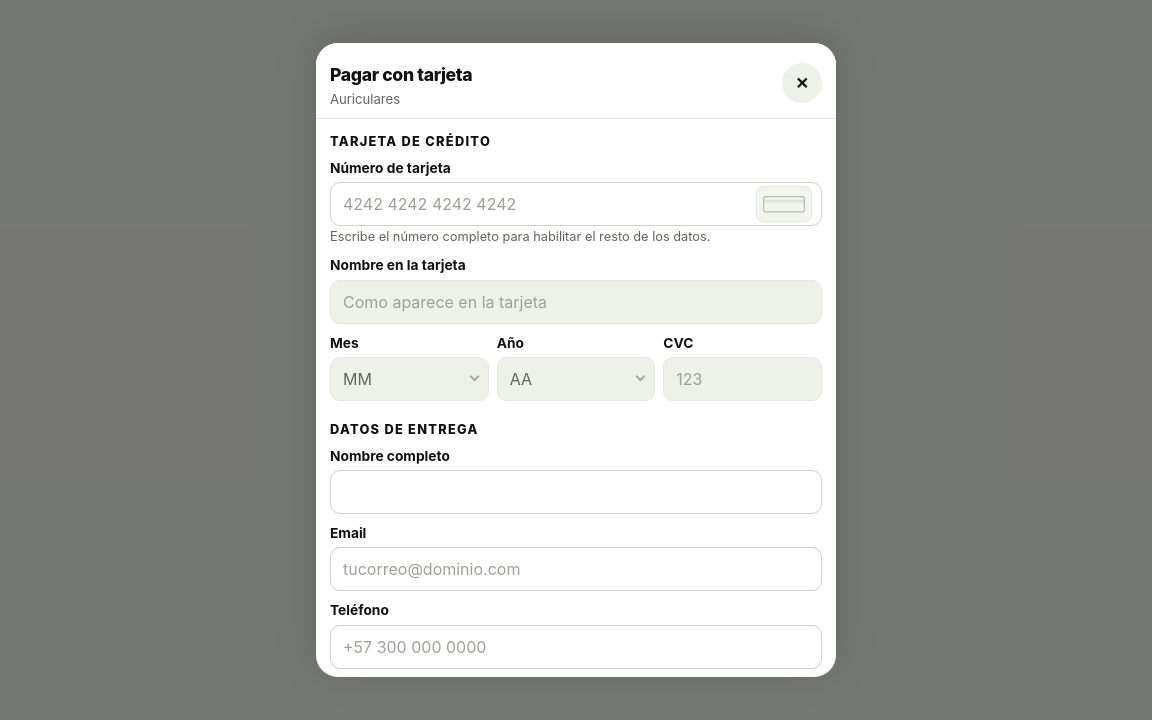
Test case: CheckoutModal › keeps the rest of the card locked until the number is complete
The width and height of the screenshot is (1152, 720).
Expected: the text "Escribe el número completo" is shown, x1=330 y1=229 x2=710 y2=244
In the field named "cardNumber": (576, 204) x1=330 y1=182 x2=822 y2=226, type "424242"
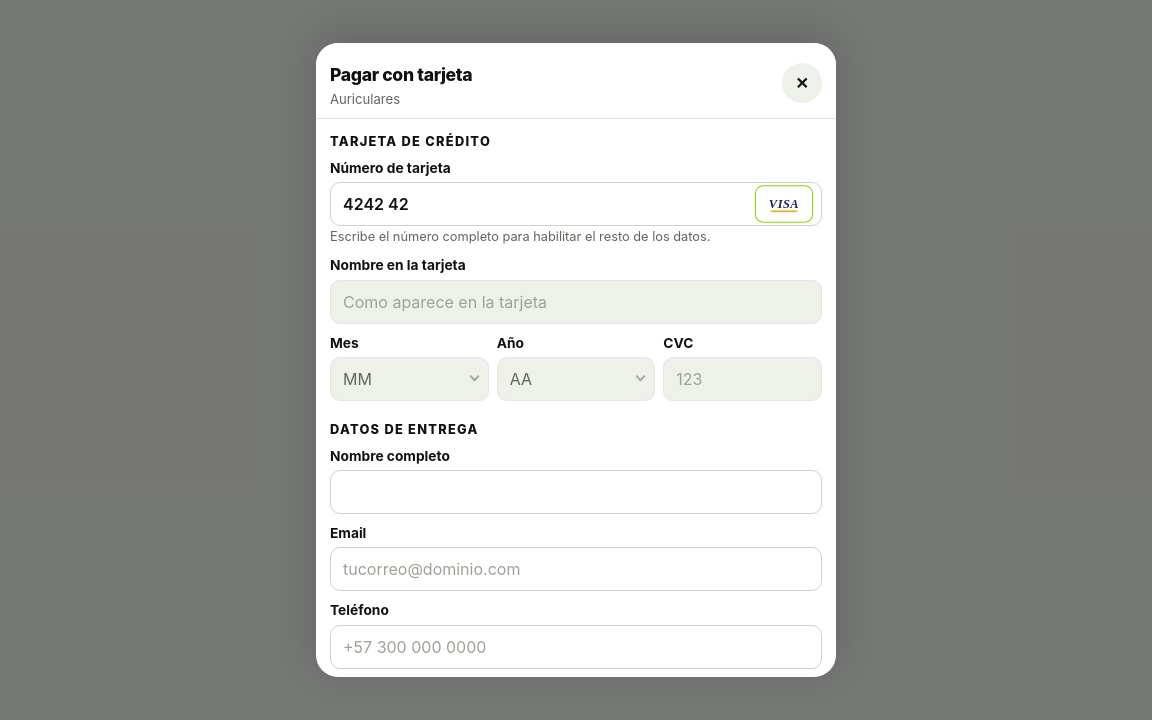
Replace the text in the field named "cardNumber" with "4242424242424242": (576, 204) x1=330 y1=182 x2=822 y2=226
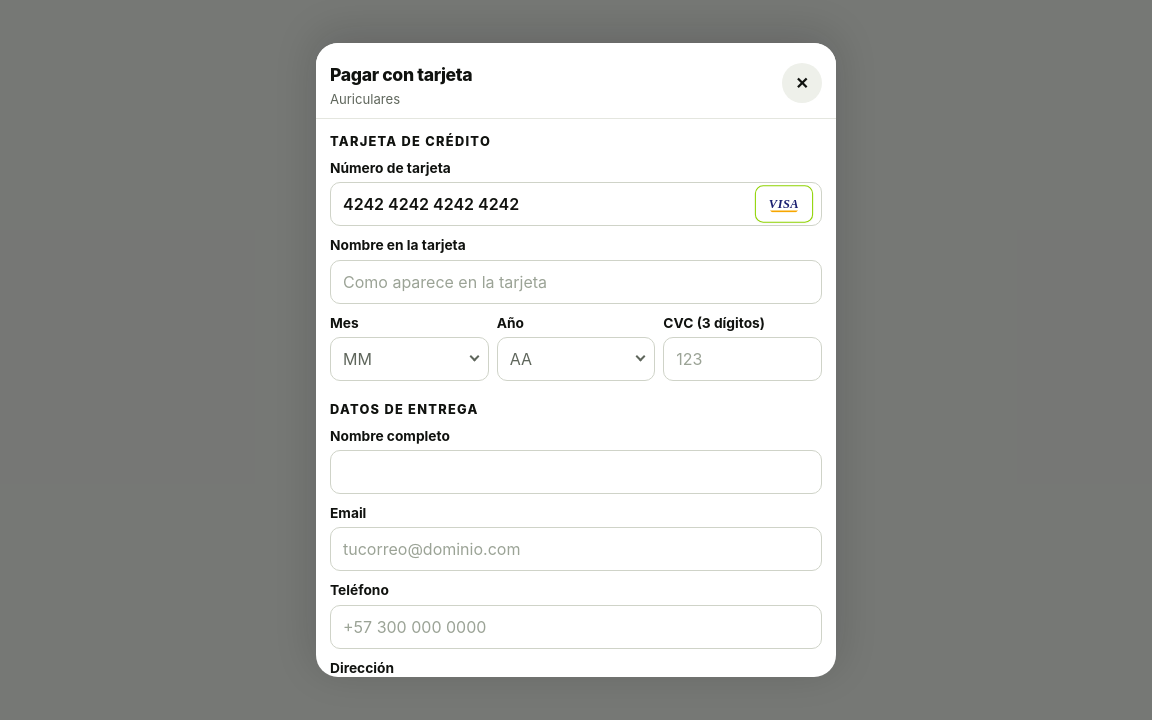
Result: the text "Escribe el número completo" is gone
